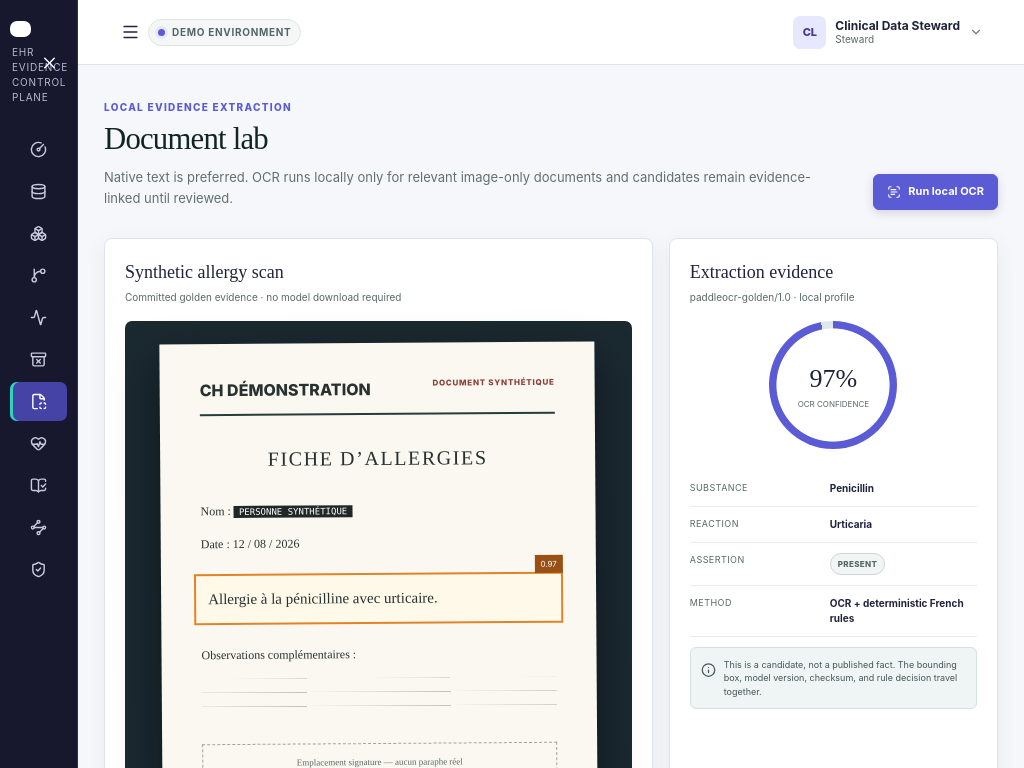
Test case: workspace routing › queues local OCR while preserving candidate status
Click the button "Run local OCR" at (936, 192), box left=873, top=174, right=998, bottom=210
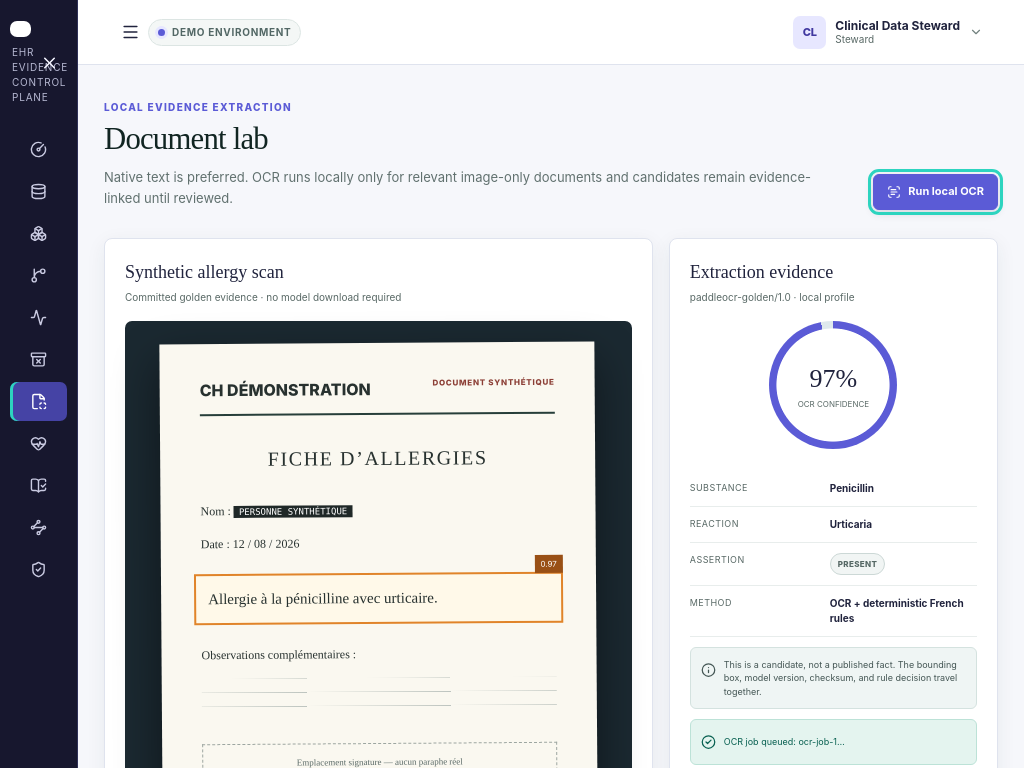
Expected: the text "candidate, not a published fact" is shown, left=724, top=659, right=957, bottom=697
Now the text "OCR job queued: ocr-job-1…" is shown, box left=690, top=719, right=977, bottom=765
